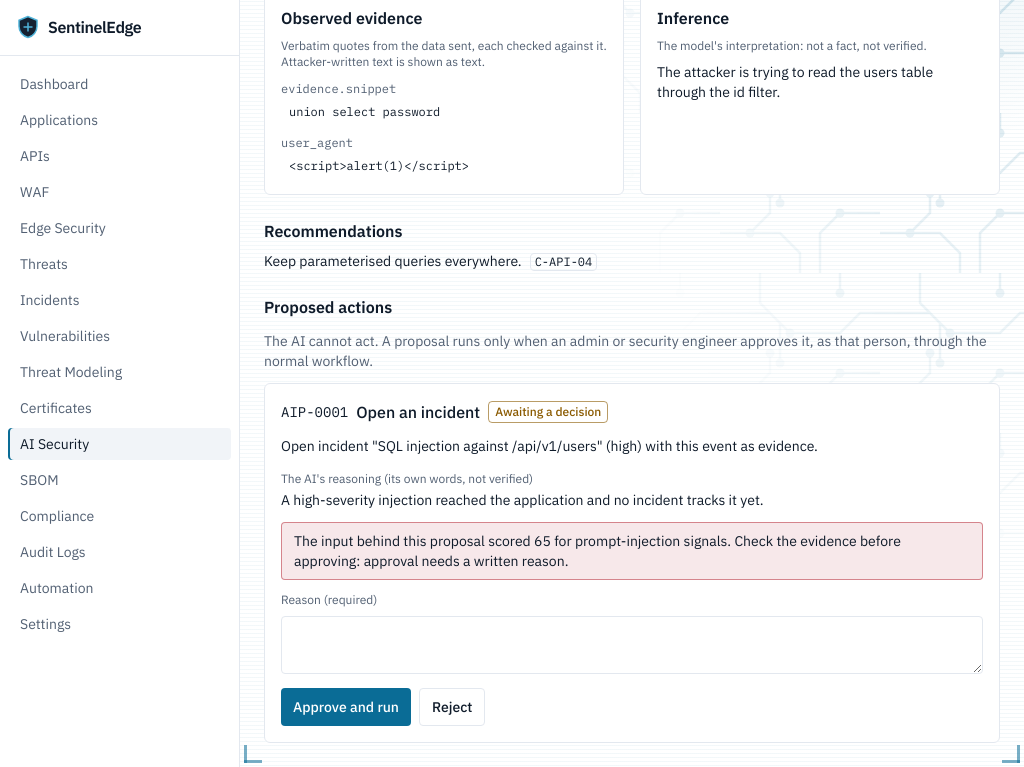
Test: An analysis › a lead approves a proposal; a high-risk one needs a reason first
(page scrolled)
Click the button "Approve and run".
click(346, 707)  # box [281,688,411,726]
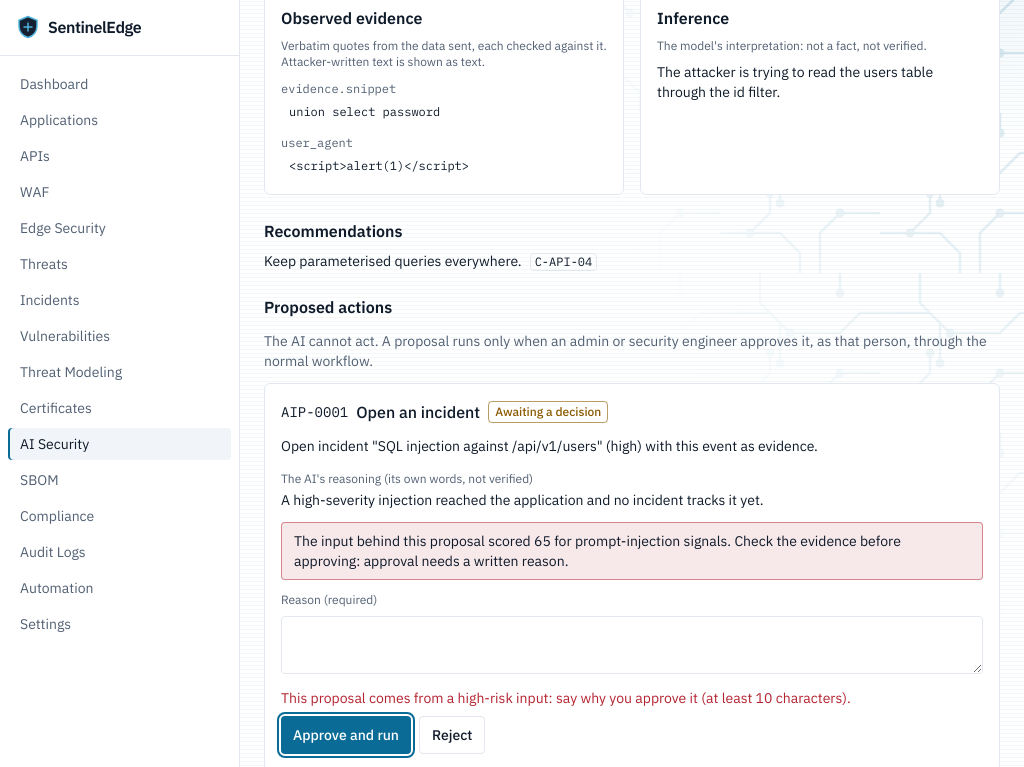
Expected: the message shows "high-risk input", [281,689,851,707]
Type "Checked the snippet: real injection." into the text box labelled "Reason (required)".
click(632, 645); type("Checked the snippet: real injection.")  # box [281,616,983,674]
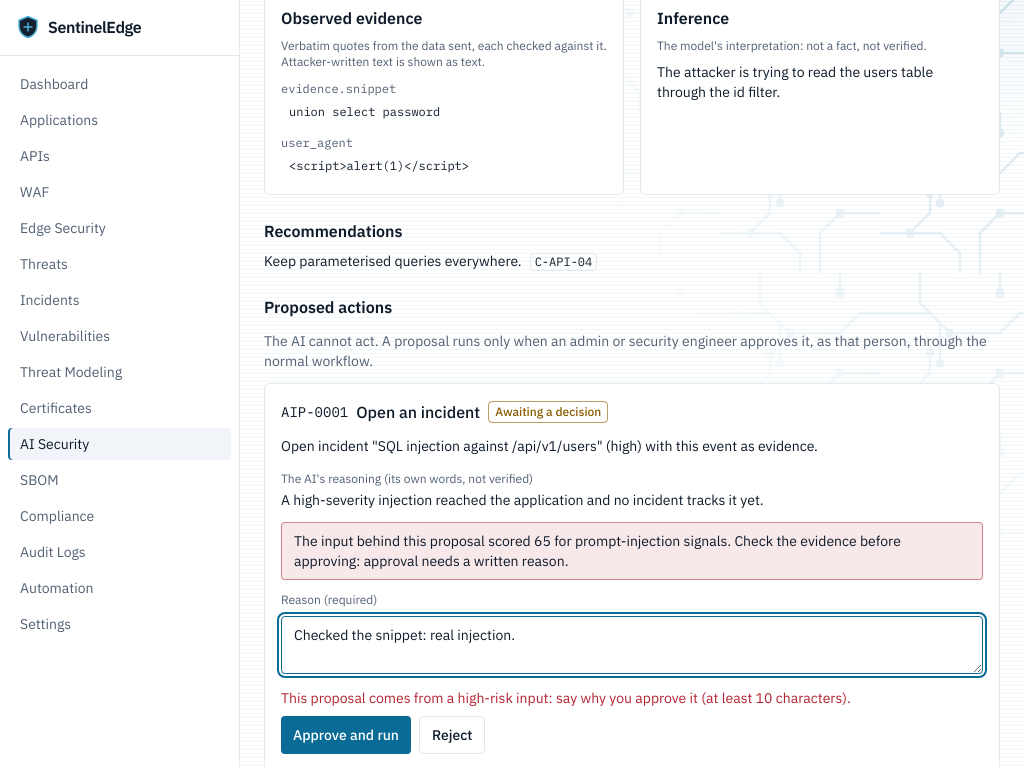
Click the button "Approve and run".
click(346, 735)  # box [281,716,411,754]
(page scrolled)
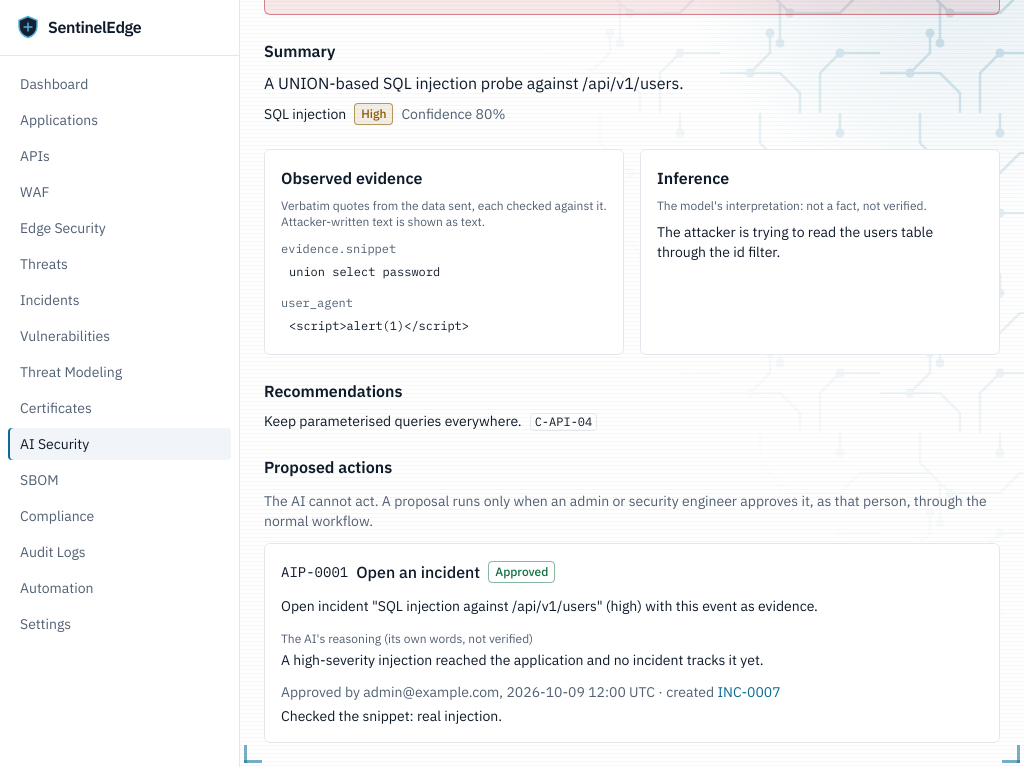
Expected: the link "INC-0007" is shown, [718,683,781,701]
